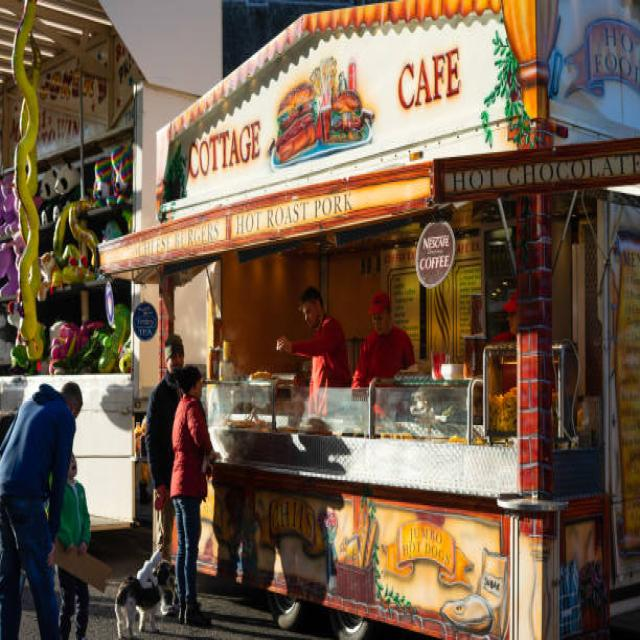Emperan: (95, 0, 640, 640)
